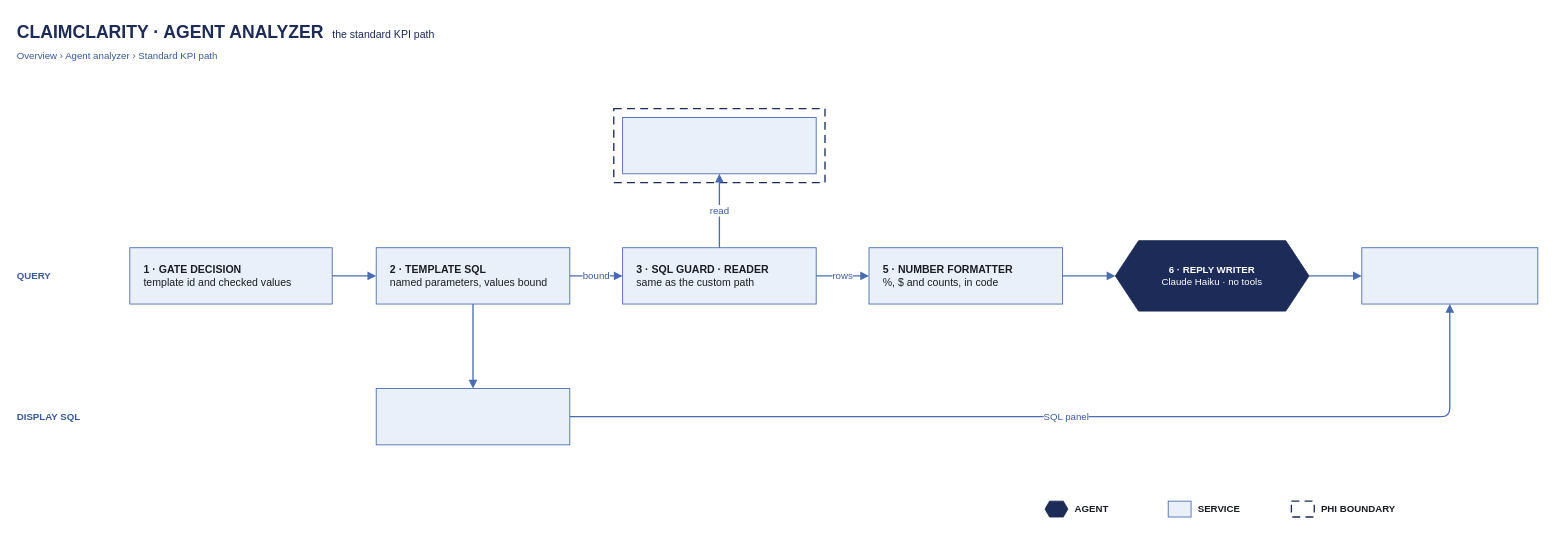
This 1553x537 diagram has some shape labels left out. The box of each missing label's shape, as (x1, y1, x2, y2) in pixels:
4 · CUSTOMER B'S GOLD sem.* views: (622, 117, 816, 174)
7 · ANSWER via=template:<id>@v1: (1361, 247, 1538, 304)
8 · DISPLAY COPY values inlined as SQL literals: (375, 388, 570, 445)
